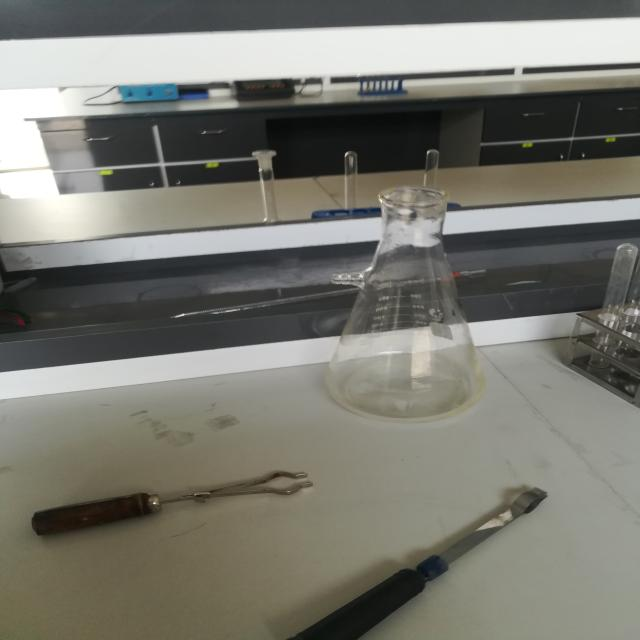Conical_Flask: (308, 156, 521, 438)
TestTube_Holder: (248, 473, 598, 640), (21, 453, 386, 550)
